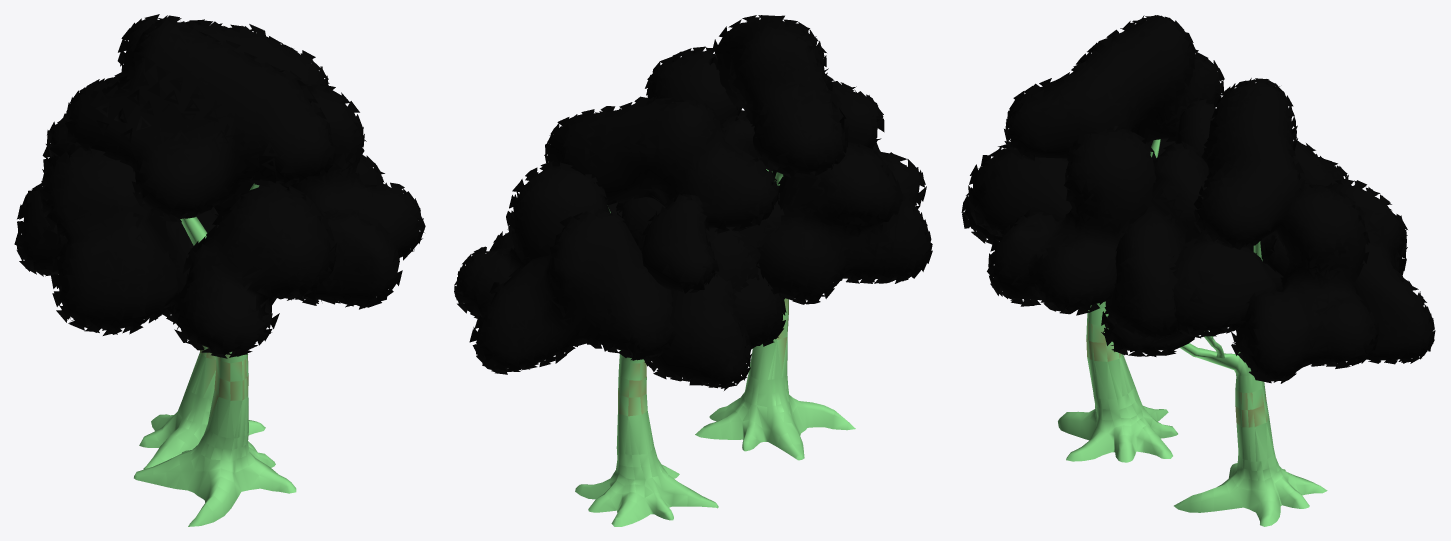
File: SM_ENV_LKNVLD_Tree_D.gltf
The picture shows the model from 3 angles, left to right: view 1: azimuth 30°, elevation 25°; view 2: azimuth 150°, elevation 25°; view 3: azimuth 270°, elevation 25°; orthographic projection. The views are drawn at different scales.
Visible parts, largest first — view 1: SM_ENV_LKNVLD_Tree_D; view 2: SM_ENV_LKNVLD_Tree_D; view 3: SM_ENV_LKNVLD_Tree_D.
Part boxes in pixels (x1,y1,x2,y2): SM_ENV_LKNVLD_Tree_D: (14,14,425,526); SM_ENV_LKNVLD_Tree_D: (454,15,932,526); SM_ENV_LKNVLD_Tree_D: (961,15,1435,526).
Bounding box in the file's own units: 12 × 14.84 × 14.26.
